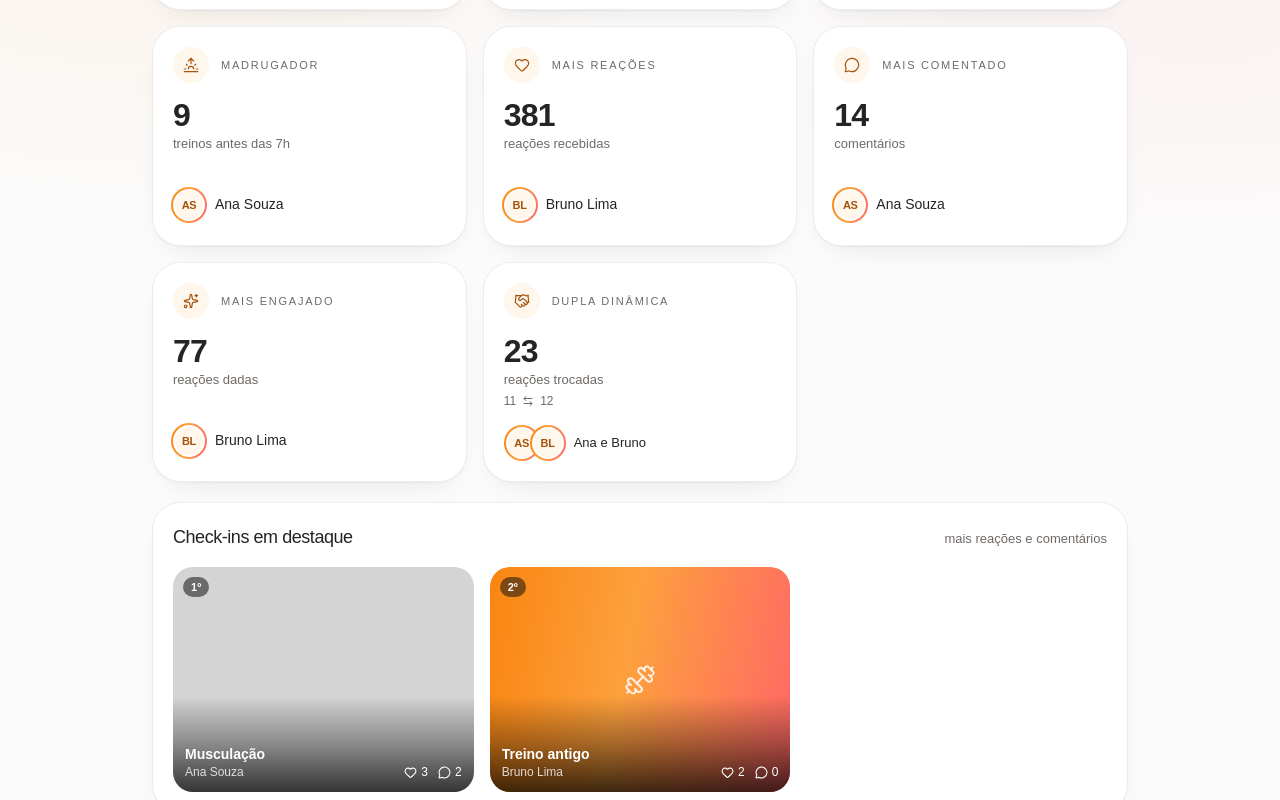
Test: Dashboard (insights) › renders awards, ties and hides the ones without a winner
(page scrolled)
Hover over the element named "Ana → Bruno: 11 · Bruno → Ana: 12" at (529, 401), box [504, 393, 554, 409]
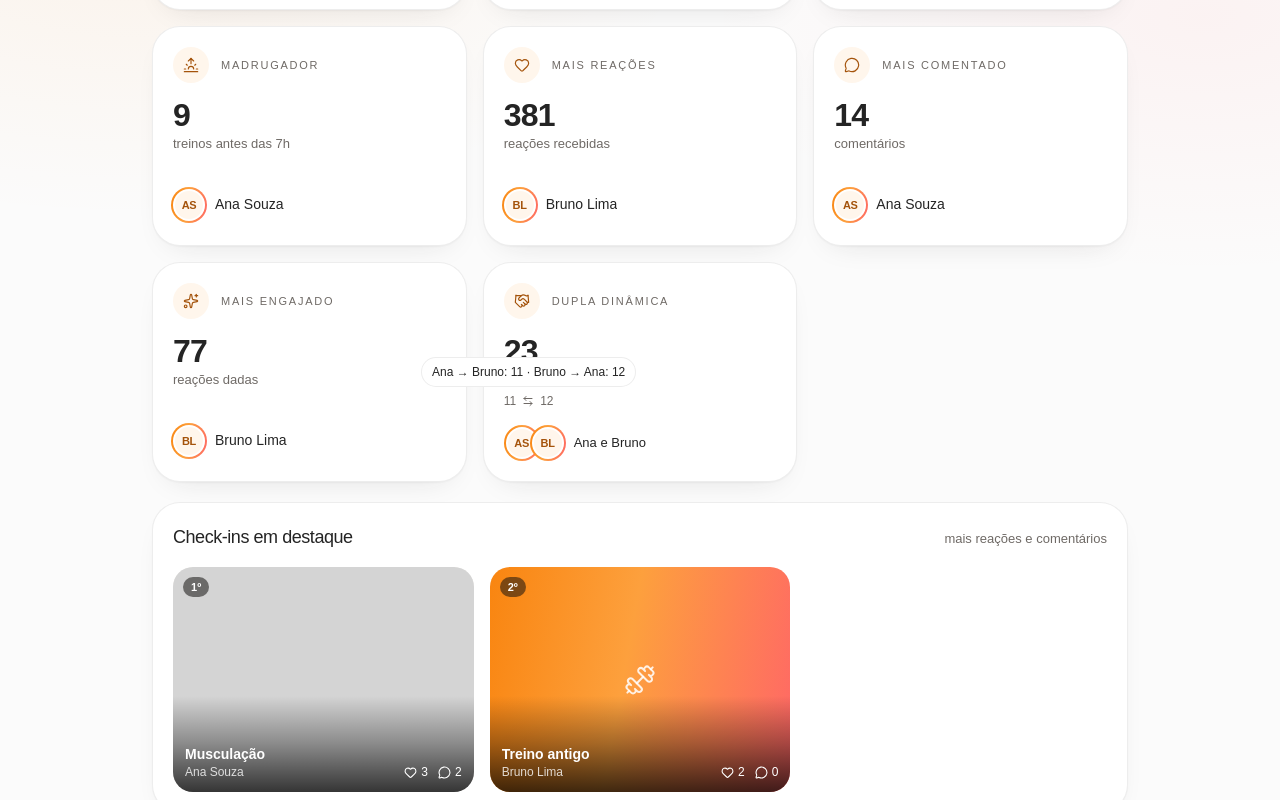
Result: the tooltip reads "Ana → Bruno: 11 · Bruno → Ana: 12" at [432, 365, 625, 379]
